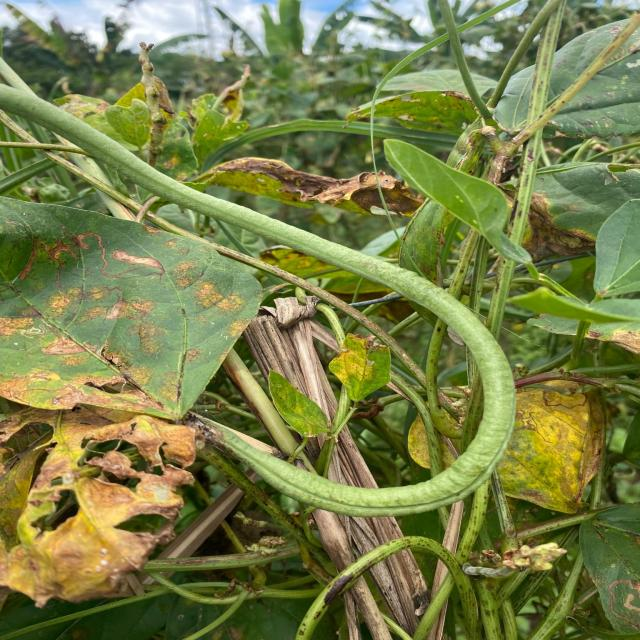10: (0, 61, 514, 516)
leaf-moderate: (0, 197, 260, 420), (0, 408, 194, 606), (499, 380, 605, 513)
